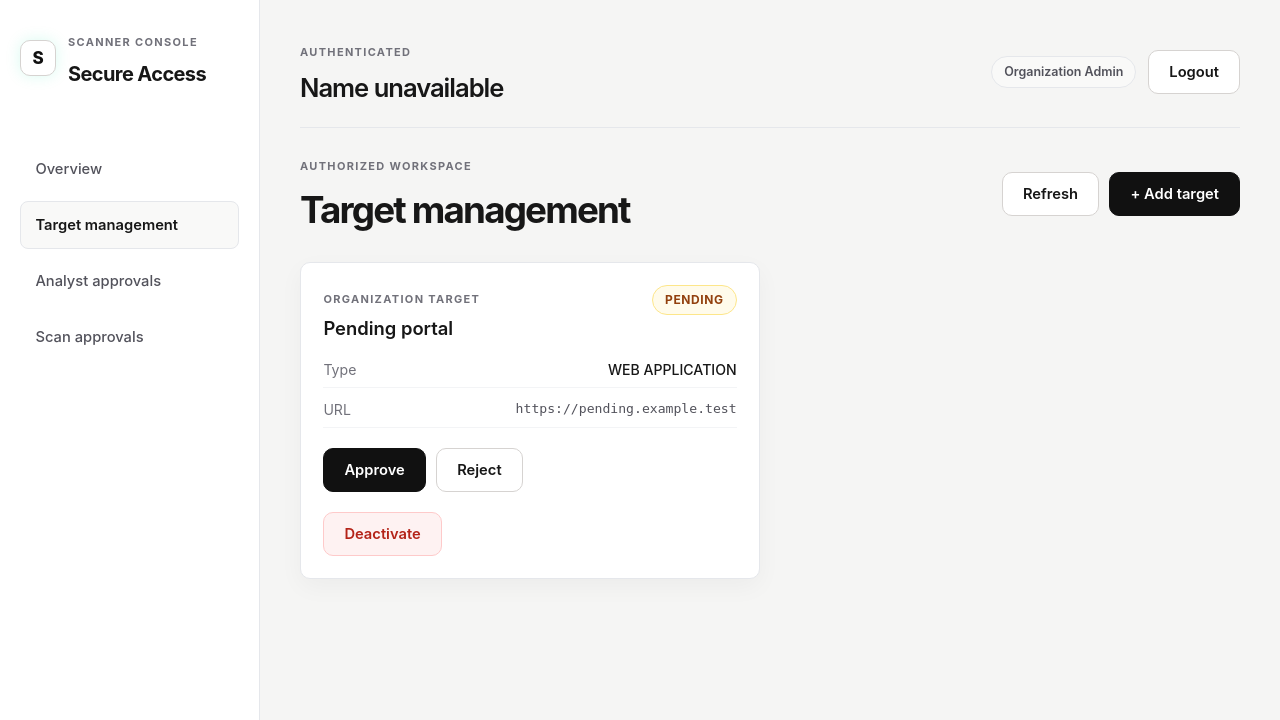
it: Authentication, Access Control and IAM Views › rejects a pending target and shows the refreshed API status
Expected: the heading "Pending portal" is shown, 323,318 -> 453,340
Click the button "Reject". click: point(479, 470)
box: 436,448 -> 523,492
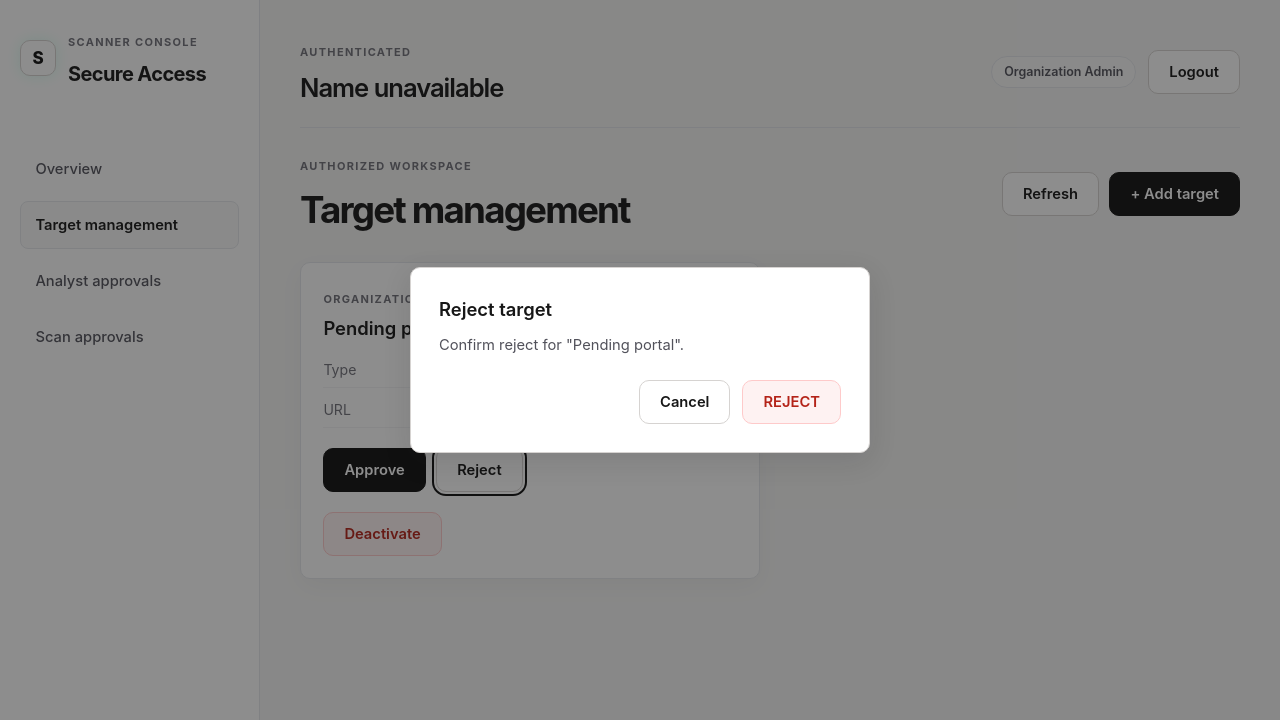
Click the button "REJECT". click: point(792, 402)
box: 742,380 -> 841,424
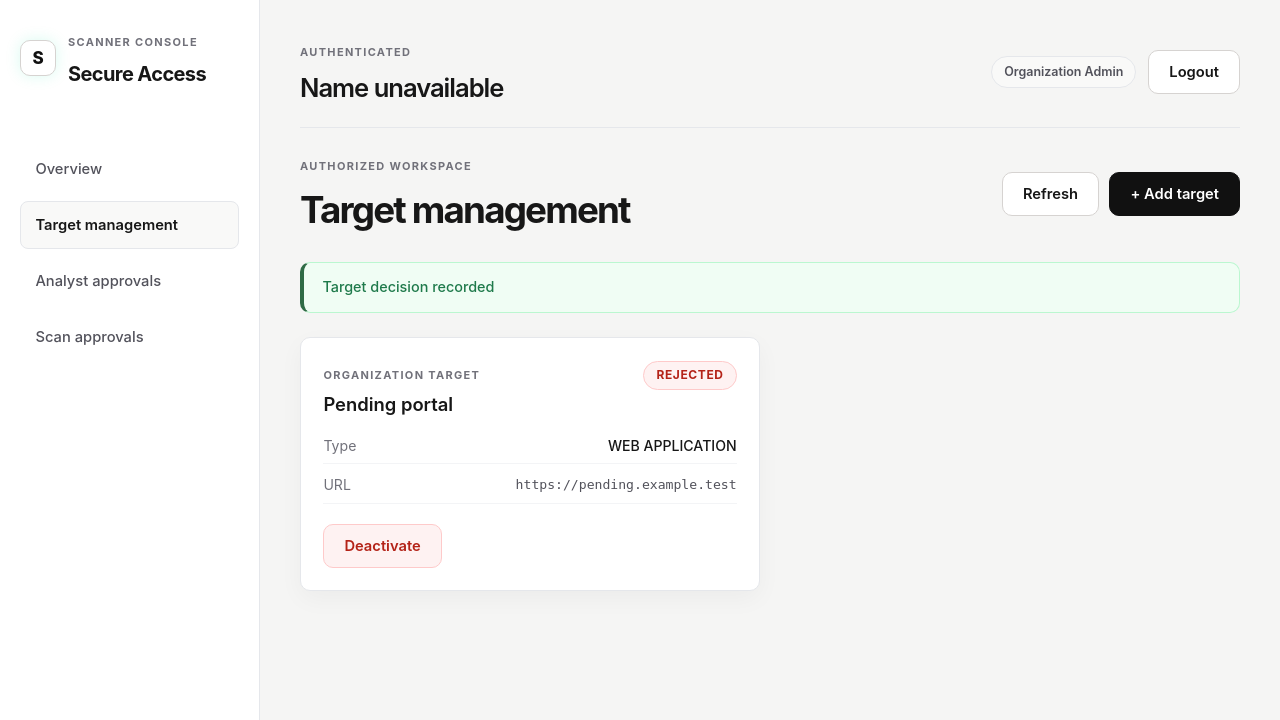
Now the text "REJECTED" is shown, box 644,361 -> 737,390
